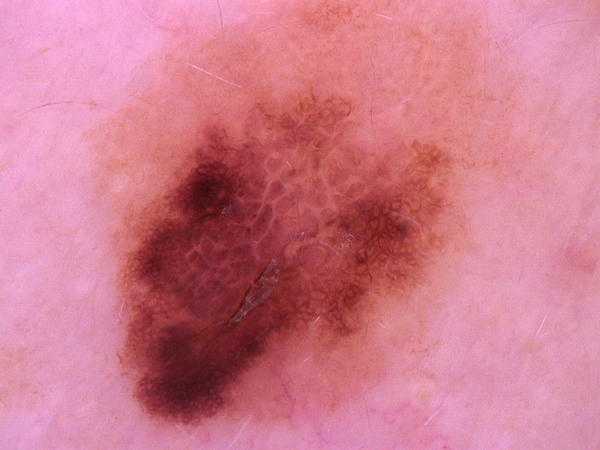Detected Lesion: (112, 98, 453, 425)
